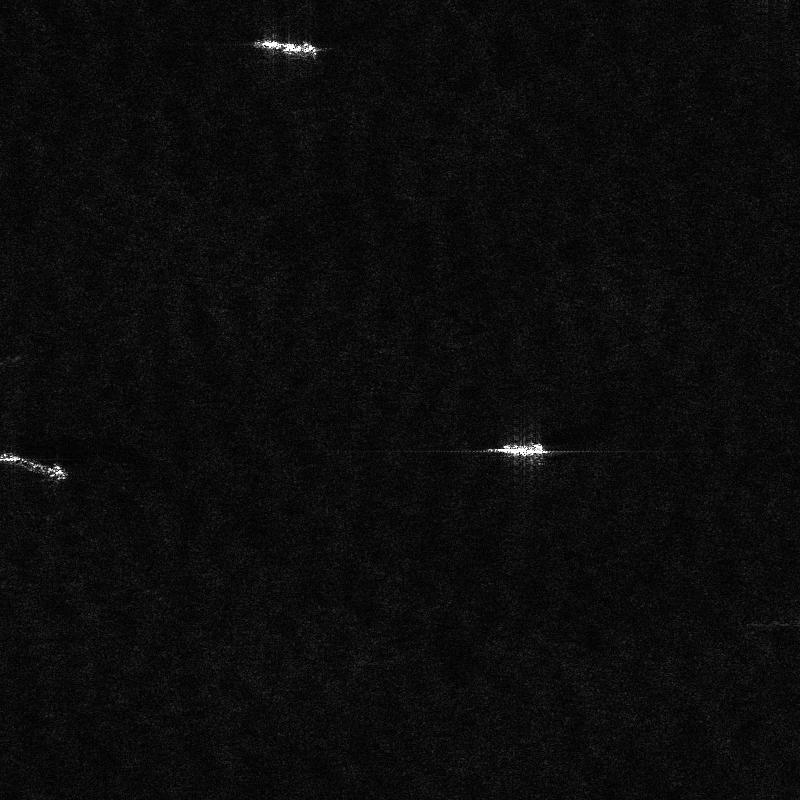ship: (0, 454, 66, 479), (254, 40, 316, 53), (487, 444, 548, 456)
